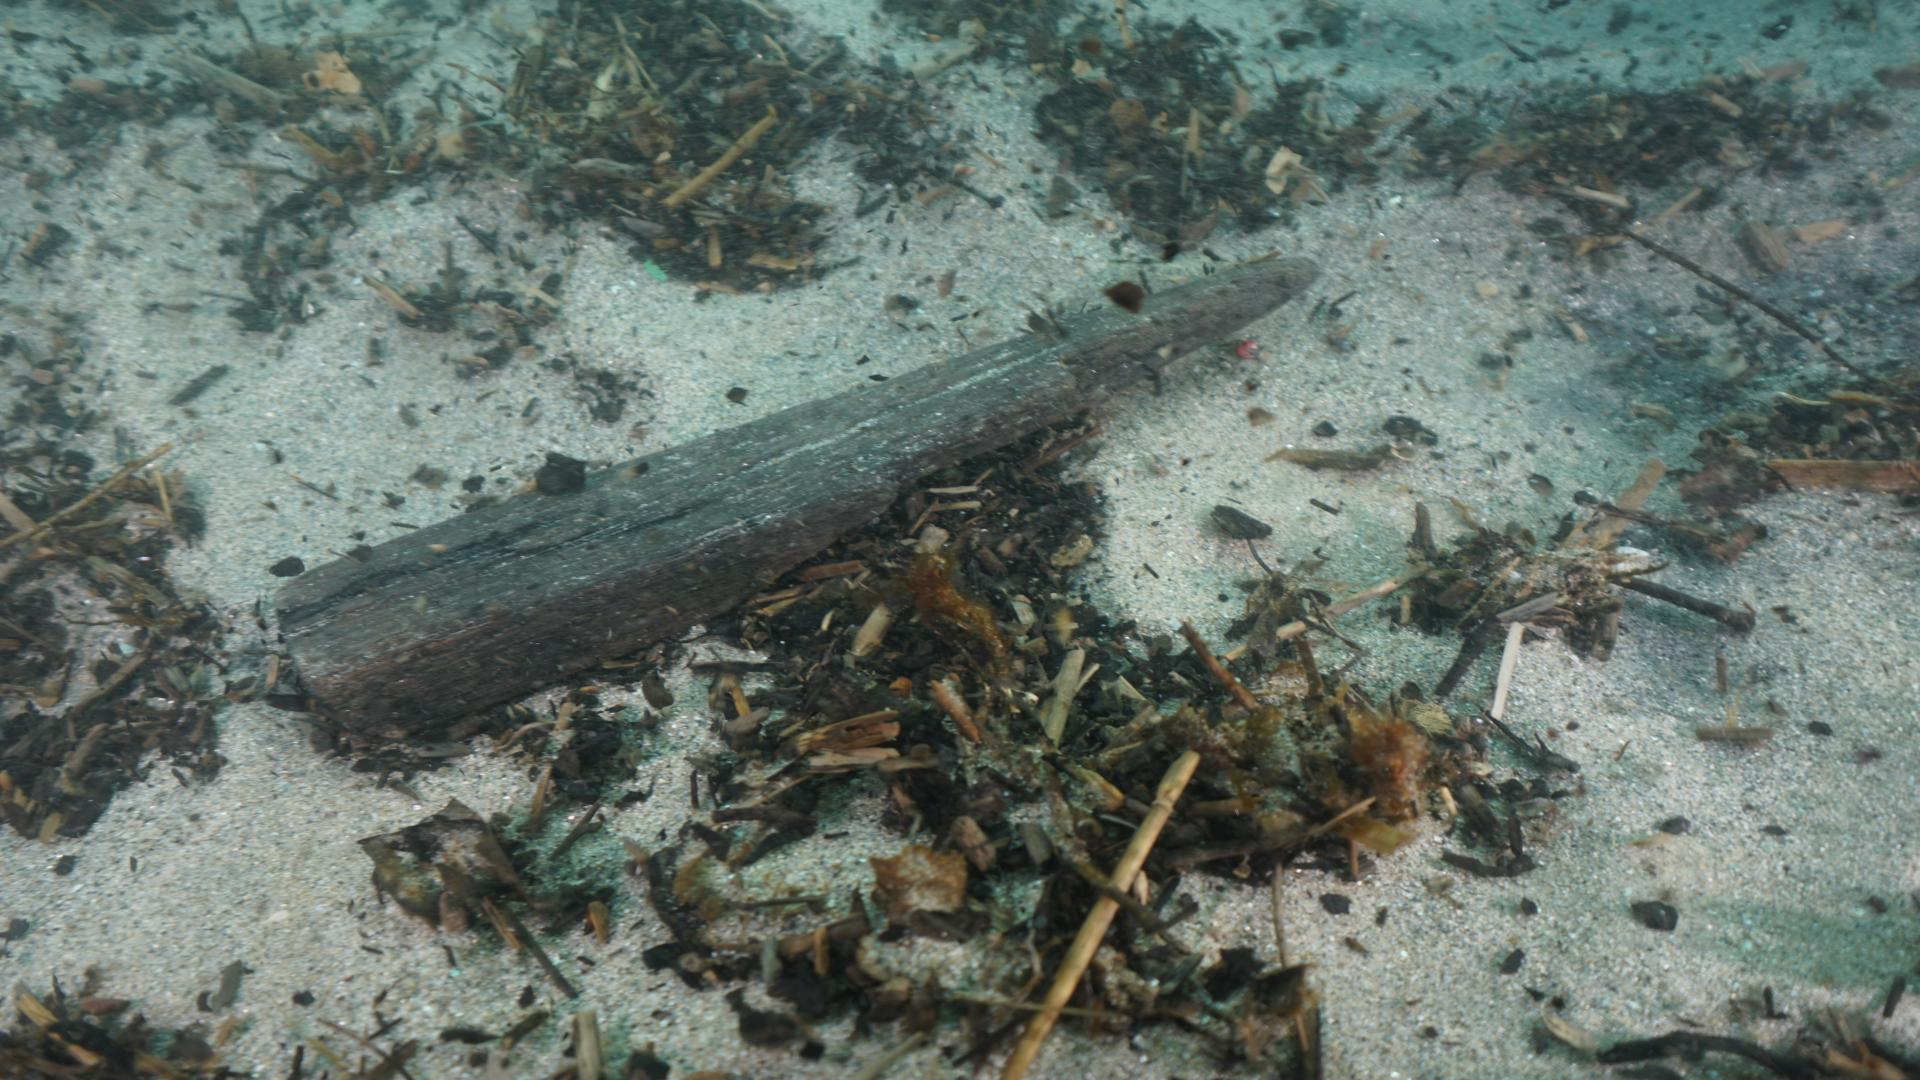wood: (273, 247, 1313, 760)
